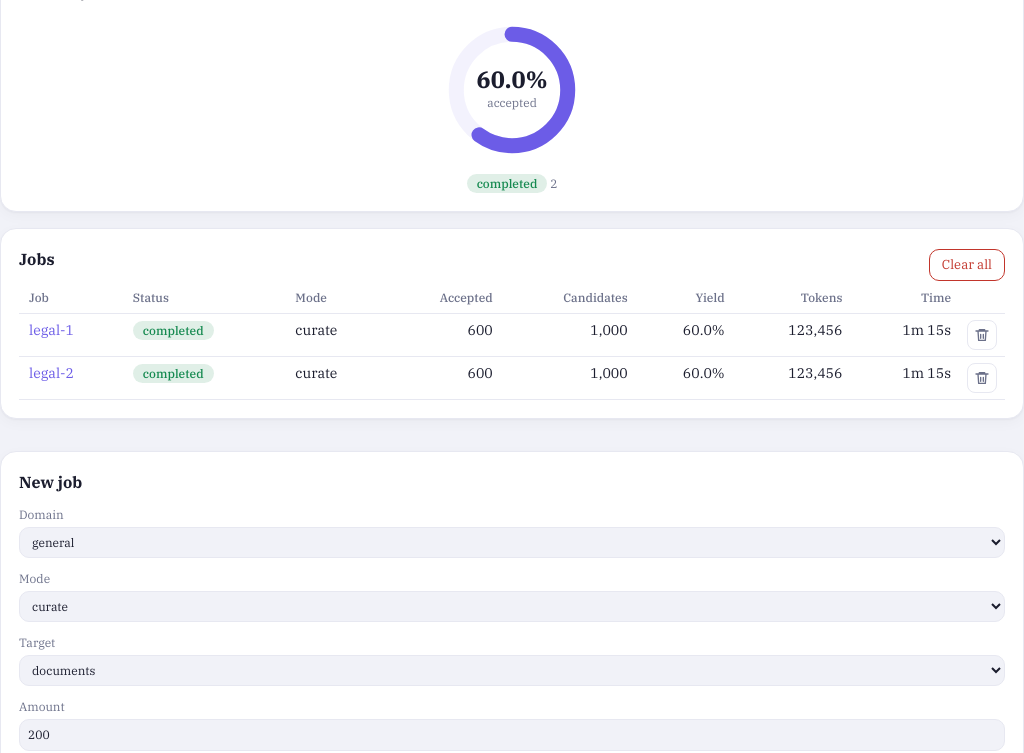
Test: Home page › deletes one job after confirmation and keeps the others
This screenshot has width=1024, height=753.
(page scrolled)
expect the link "legal-2" is shown: met, box [29,364,74,382]
Click the button named "Delete legal-2" at [982, 378], box [967,363,997,393]
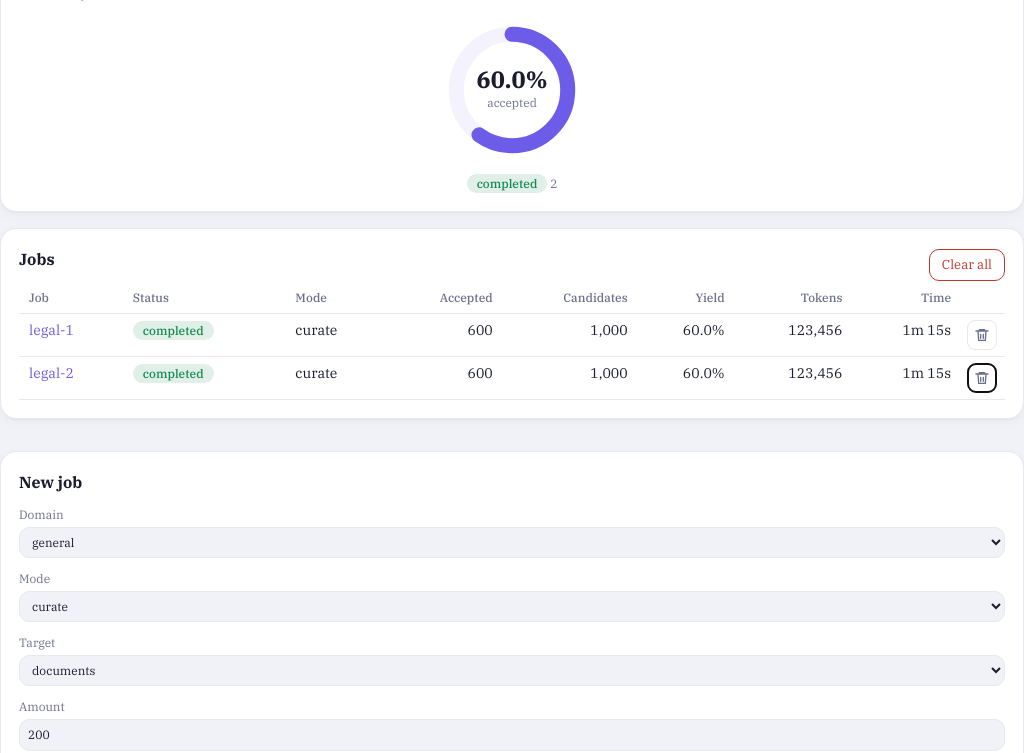
Click the button named "Delete legal-2" at [982, 378], box [967,363,997,393]
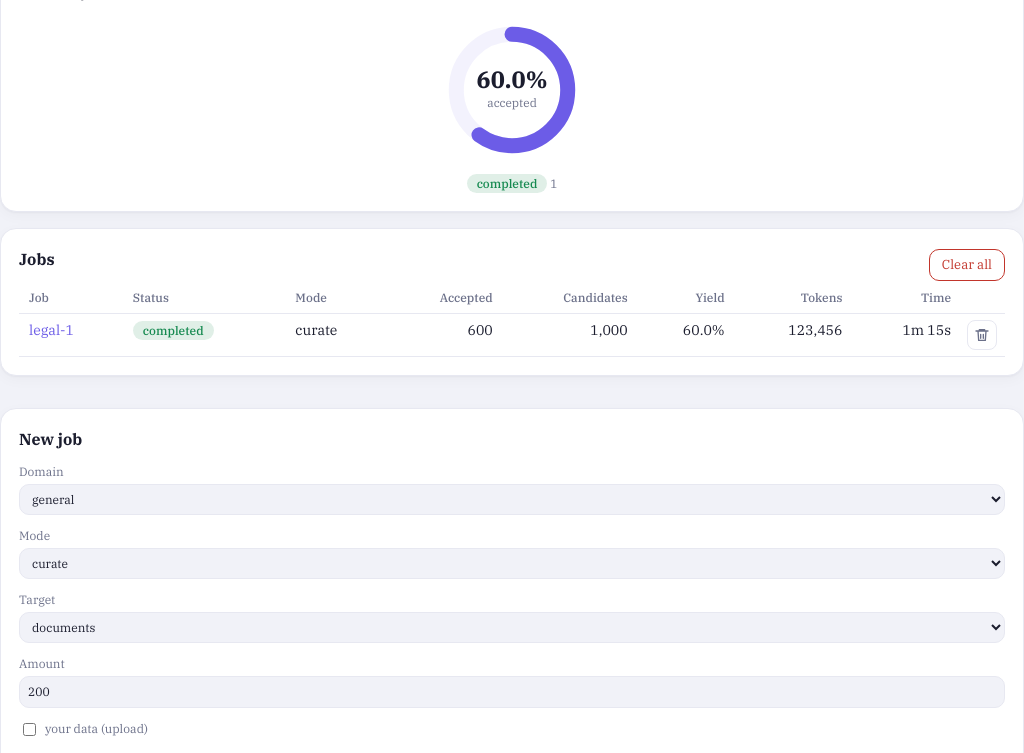
expect the link "legal-1" is shown: met, box [29,321,74,339]
expect the link "legal-2" is gone: met
